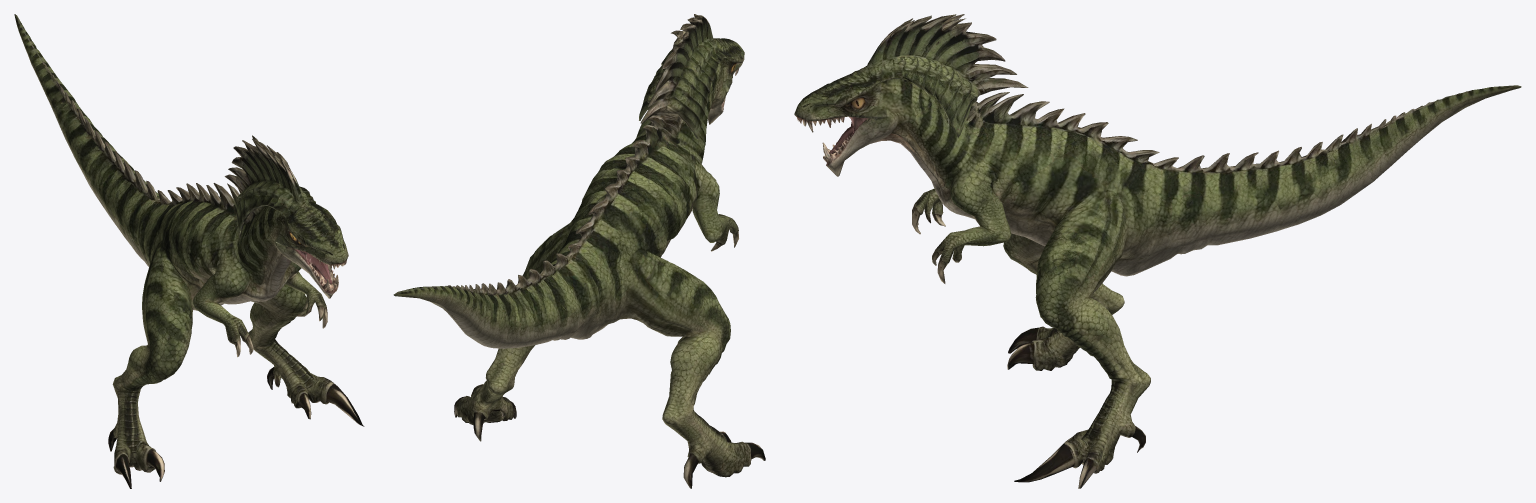
Rendered from raptor.glb.
3 views of the same model, side by side, from view 1: azimuth 30°, elevation 25°; view 2: azimuth 150°, elevation 25°; view 3: azimuth 270°, elevation 25° (orthographic). The views are drawn at different scales.
Size of the model in its own units: 0.857 by 1.14 by 1.9.
Materials: 1 (1 with a texture image).
